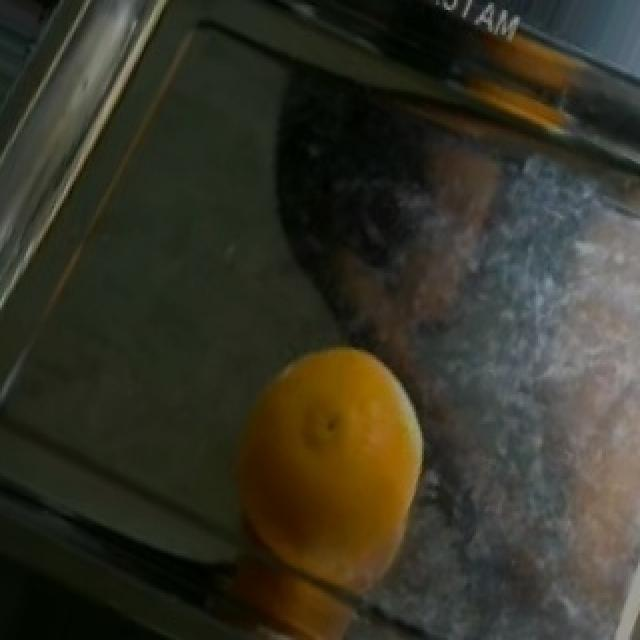Fruit: (214, 320, 452, 630)
